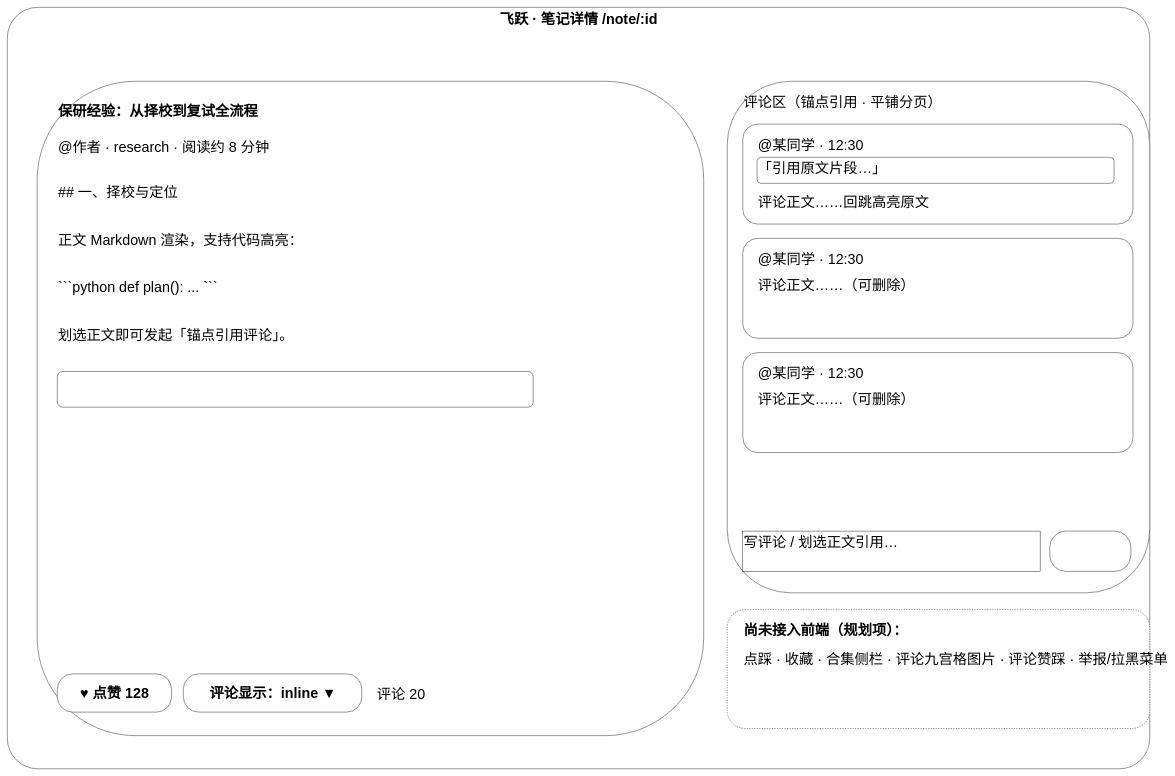
This 1175x776 diagram has some shape labels left out. The centre of each missing label's shape, as x and y in pixels:
"发送" belongs at [1090,551].
"被引用的原文片段（高亮 mark）" belongs at [295,389].
